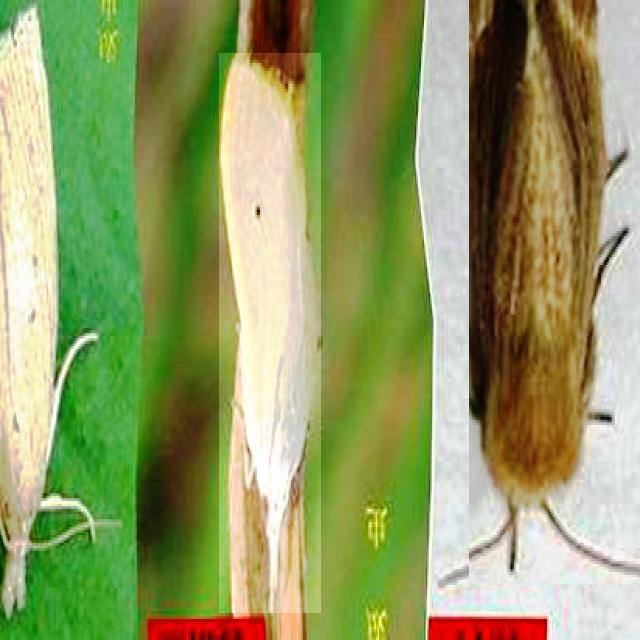stem-borer: (469, 0, 640, 584), (220, 53, 322, 613), (0, 0, 78, 630)
